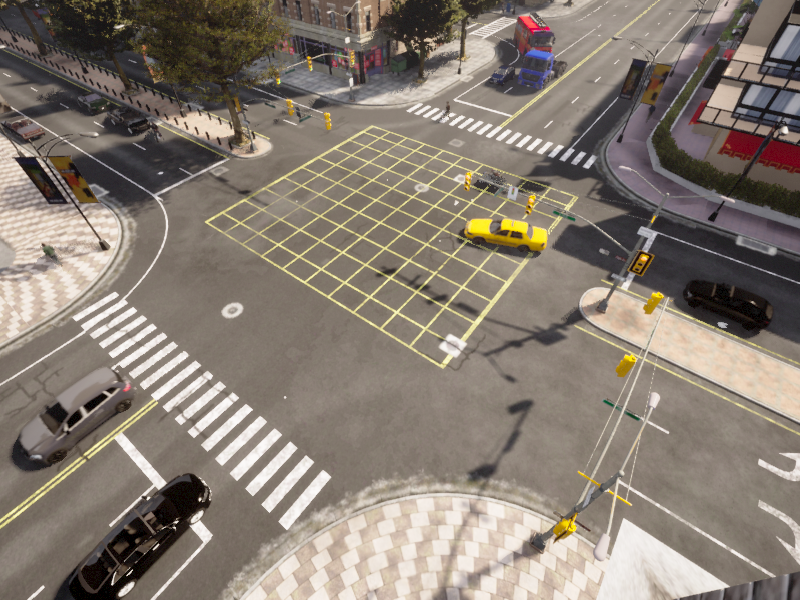vehicle: (674, 265, 778, 334), (460, 207, 548, 255), (100, 99, 157, 138), (473, 161, 506, 192), (144, 118, 171, 145)
